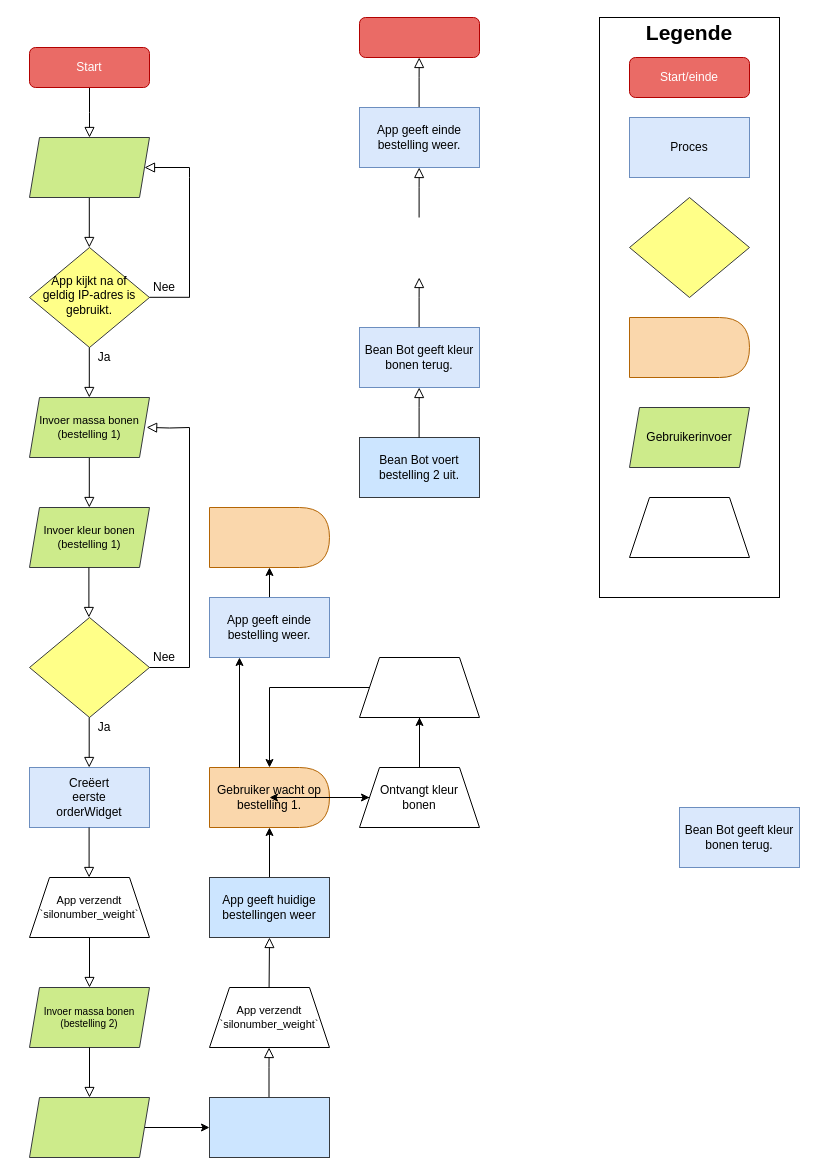
Image size: 817x1175. Some labels were removed from this diagram. The box of each missing label's shape, as (x1, y1, x2, y2) in pixels:
Creëert tweede orderWidget: (208, 1096, 330, 1158)
Einde: (358, 16, 480, 58)
Gebruiker voert IP-adres in.: (28, 136, 150, 198)
Gebruiker wacht op bestelling 2.: (208, 506, 330, 568)
Invoer kleur bonen (bestelling 2): (28, 1096, 150, 1158)
Keuze: (628, 196, 750, 298)
Ontvangt massa bonen: (358, 656, 480, 718)
Verzenden en ontvangen MQTT: (628, 496, 750, 558)
Vragen of de gebruiker zeker is.: (28, 616, 150, 718)
Wachten: (628, 316, 750, 378)
